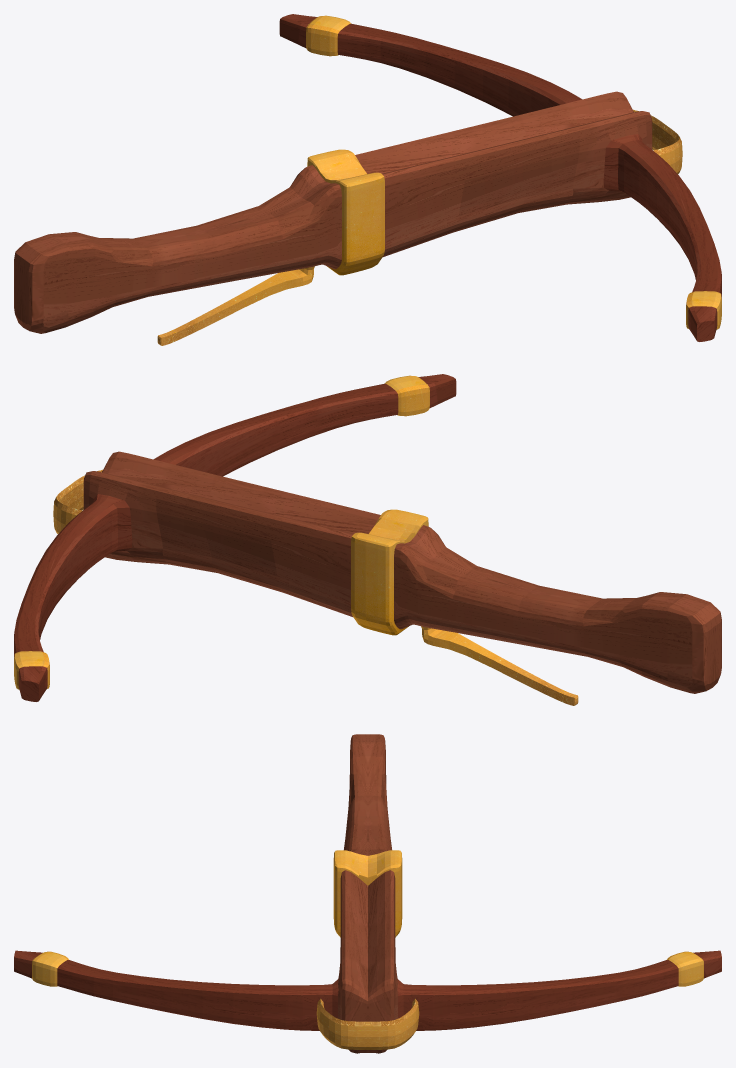
The model's file is crossbowModernRedWoodGold.glb.
The picture shows the model from 3 angles, top to bottom: view 1: azimuth 30°, elevation 25°; view 2: azimuth 150°, elevation 25°; view 3: azimuth 270°, elevation 25°; orthographic projection. The views are drawn at different scales.
Parts seen in each view (by area): view 1: Crossbow Modern; view 2: Crossbow Modern; view 3: Crossbow Modern.
Part boxes in pixels (x1,y1,x2,y2): Crossbow Modern: [14, 14, 721, 345]; Crossbow Modern: [14, 374, 721, 705]; Crossbow Modern: [14, 734, 721, 1053].
Size of the model in its own units: 8.68 by 1.71 by 9.72.
1 material, 1 textured.
